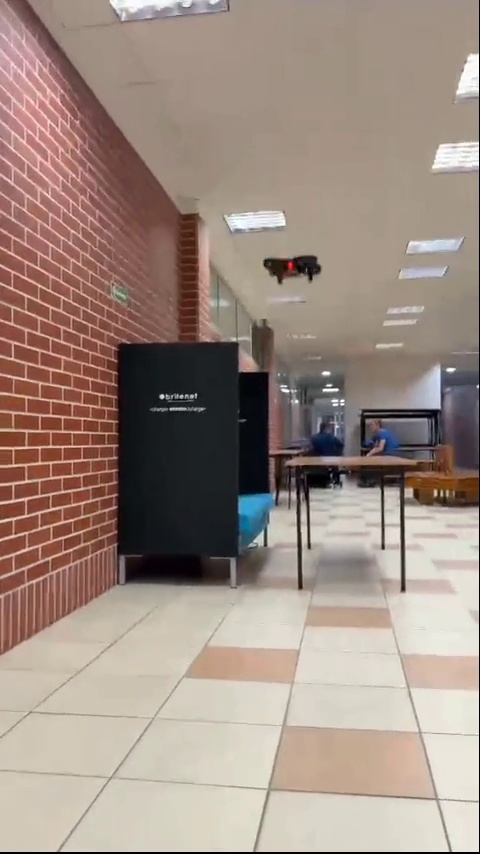drone: (263, 256, 319, 283)
no vest: (313, 417, 348, 453), (360, 422, 396, 453)
